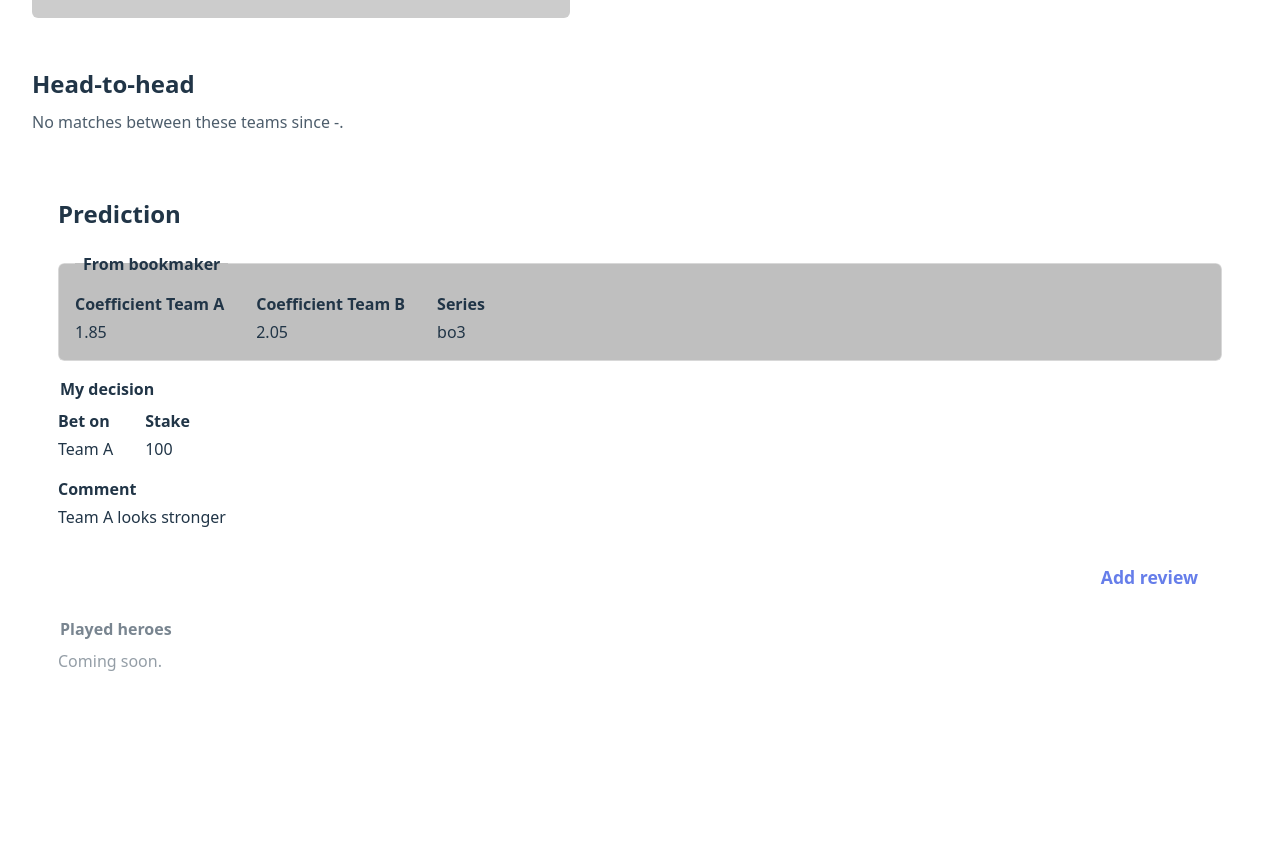
PredictionDetail › hides the review until Add review is clicked, then offers the results of the format
(page scrolled)
What coordinates should you click on to do the following:
click the button "Add review"
I would click on:
 (1149, 577)
Its box is [1077, 553, 1222, 601].
(page scrolled)
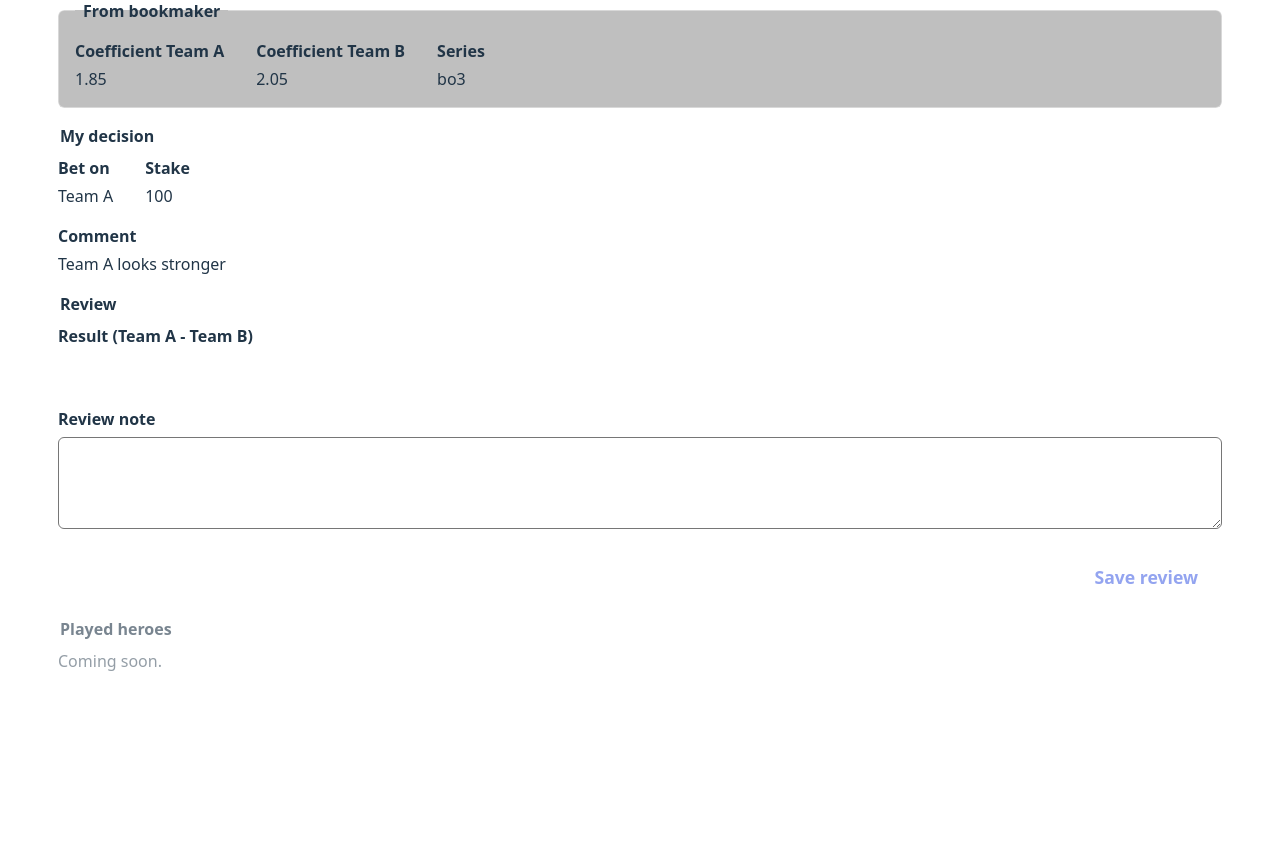
Result: the button "Save review" is disabled at [1070, 553, 1222, 601]
